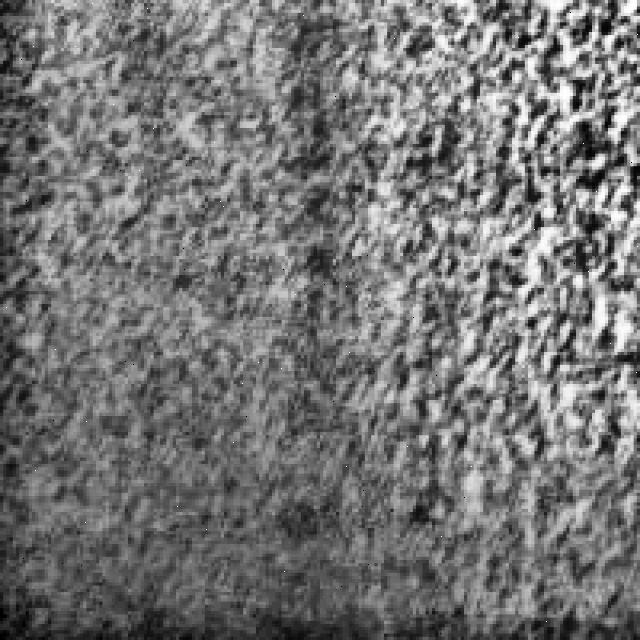Rolled_in_Scale: (16, 0, 637, 586)
